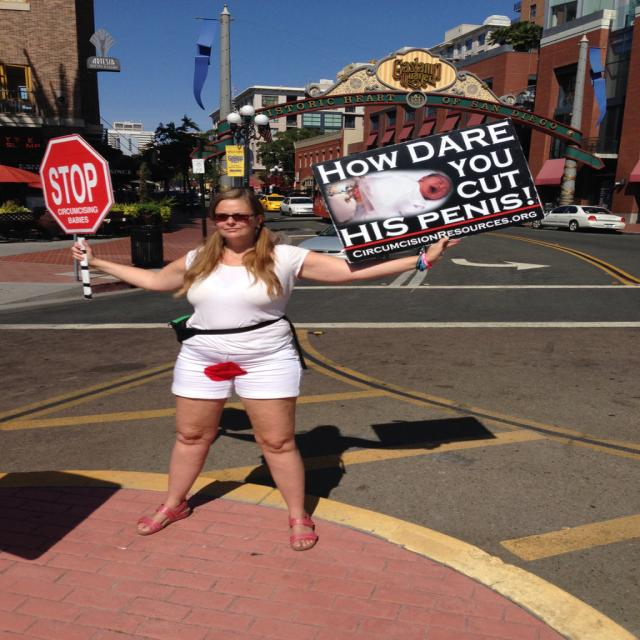Stop-sign: (36, 133, 119, 234)
